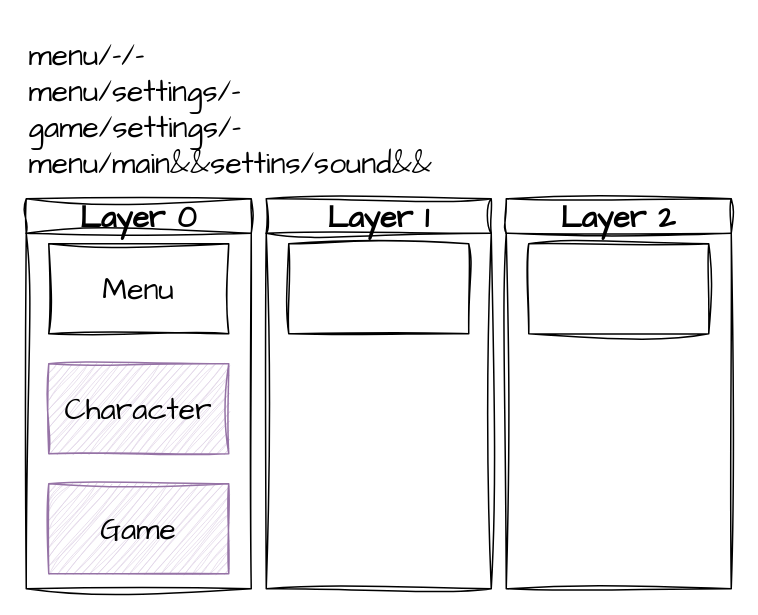
Some shapes in this 758 by 615 pixel diagram are drawn without their labels. Here are the shapes that lost their labels. From the top down, the centre of each, then its label:
point 378,288: Settings
point 618,288: Popups
